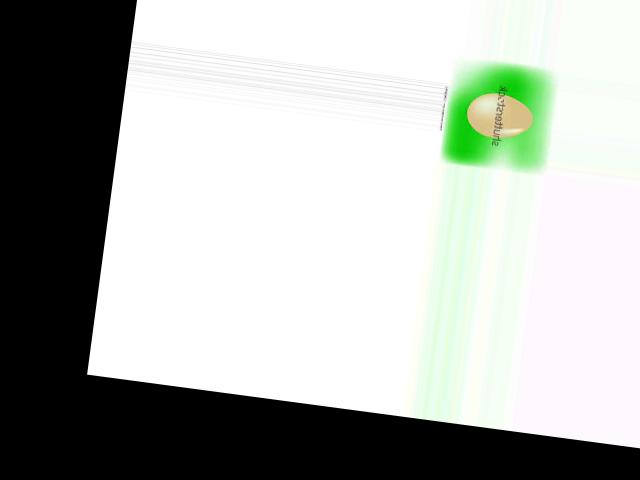egg: (464, 89, 535, 141)
